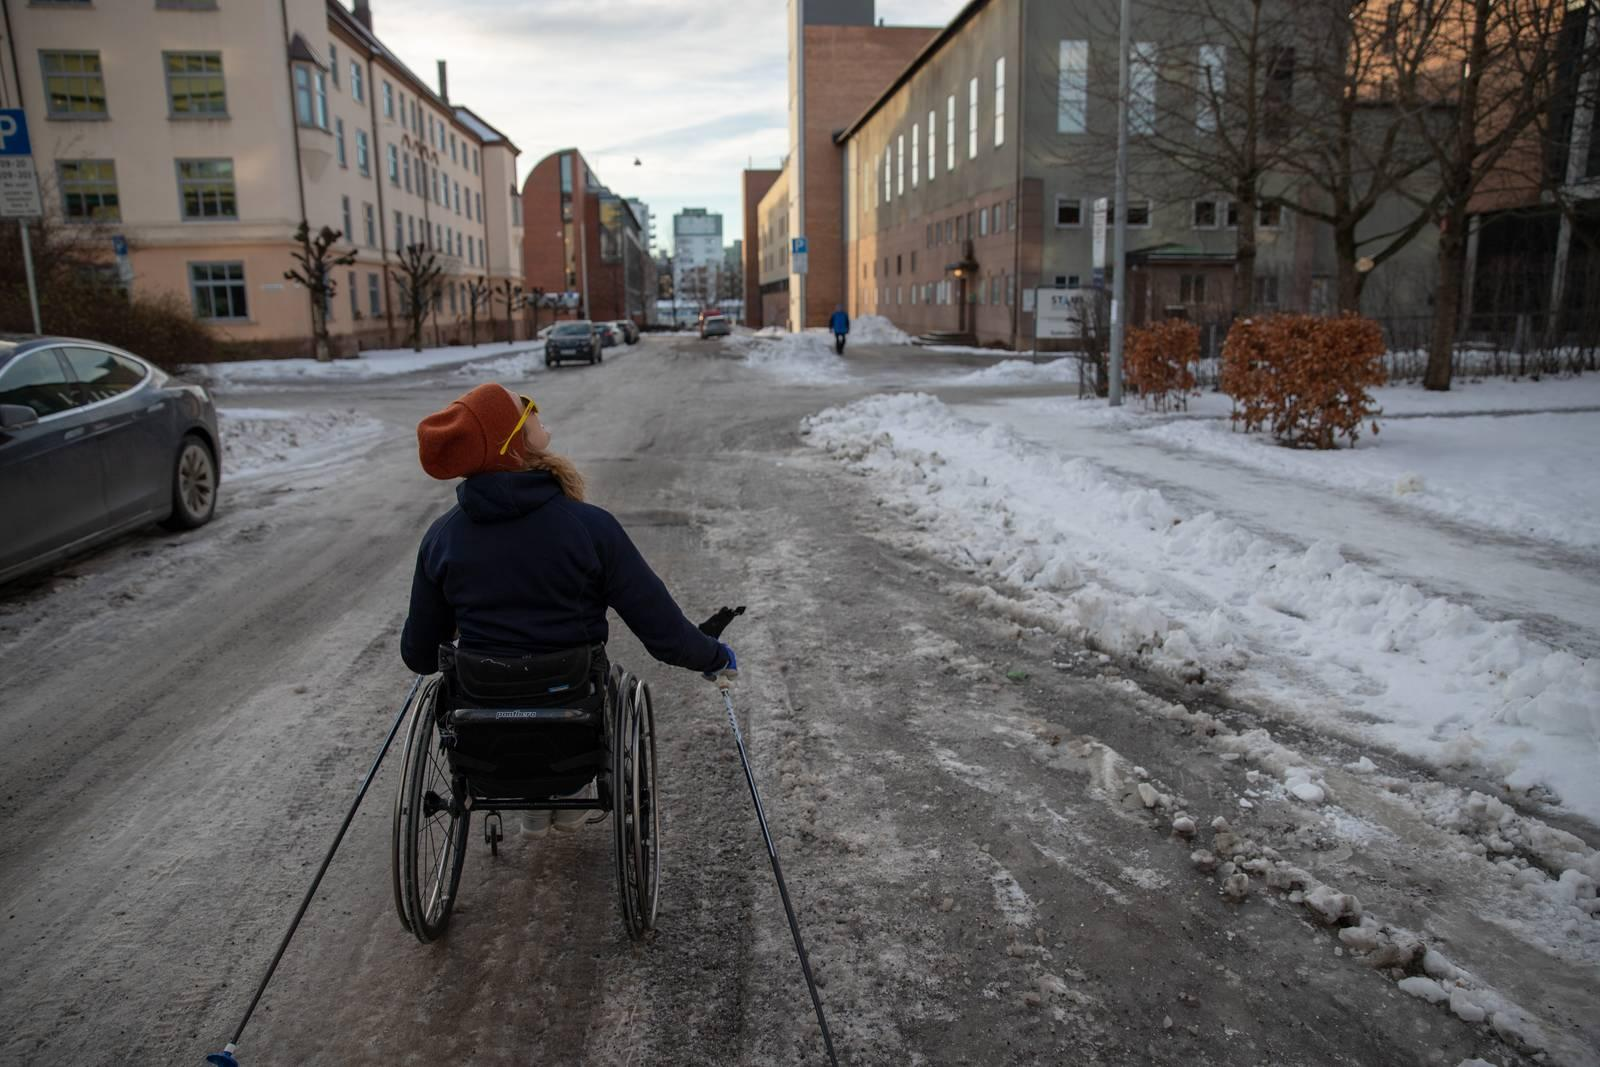wheelchair: (390, 385, 738, 942)
